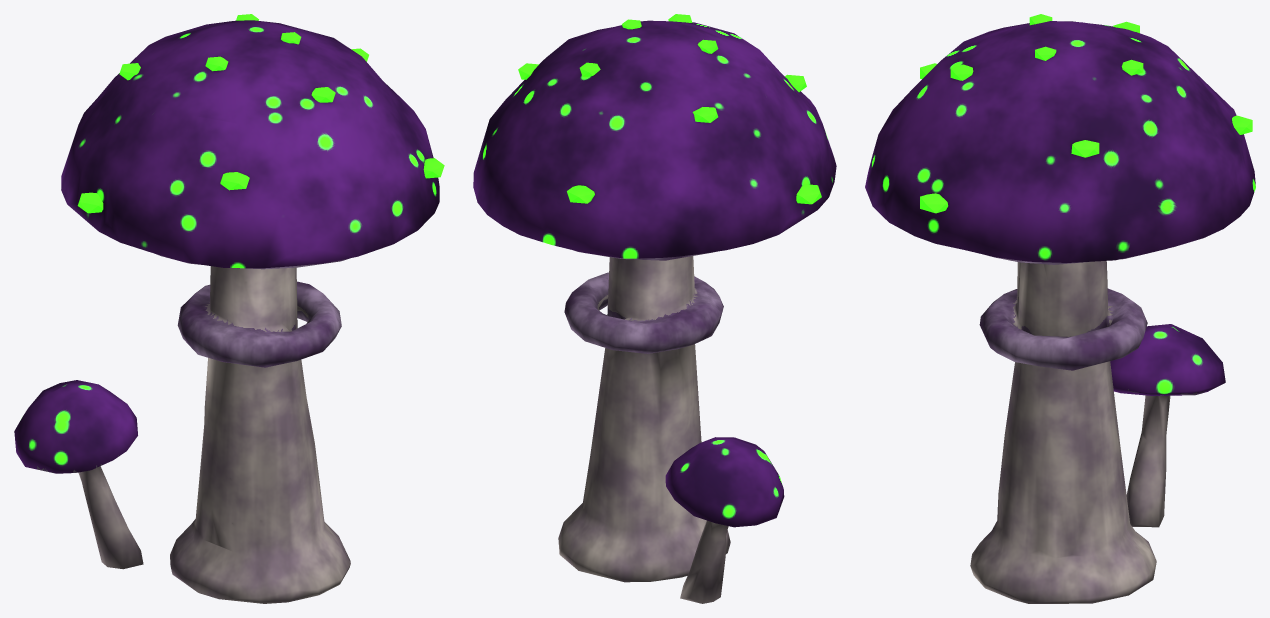
File: hongo_pequeno_a.fbx
3 views of the same model, side by side, from view 1: azimuth 30°, elevation 25°; view 2: azimuth 150°, elevation 25°; view 3: azimuth 270°, elevation 25° (orthographic). The views are drawn at different scales.
Parts seen in each view (by area): view 1: hongo, puntos_neon; view 2: hongo, puntos_neon; view 3: hongo, puntos_neon.
Part boxes in pixels (x1=…): hongo: x1=14, y1=20, x2=439, y2=603; puntos_neon: x1=77, y1=14, x2=444, y2=213; hongo: x1=473, y1=20, x2=836, y2=603; puntos_neon: x1=518, y1=14, x2=821, y2=204; hongo: x1=865, y1=21, x2=1255, y2=603; puntos_neon: x1=920, y1=14, x2=1252, y2=213.
Bounding box in the file's own units: 1 × 1.5 × 1.
Materials: 1 (1 with a texture image).
